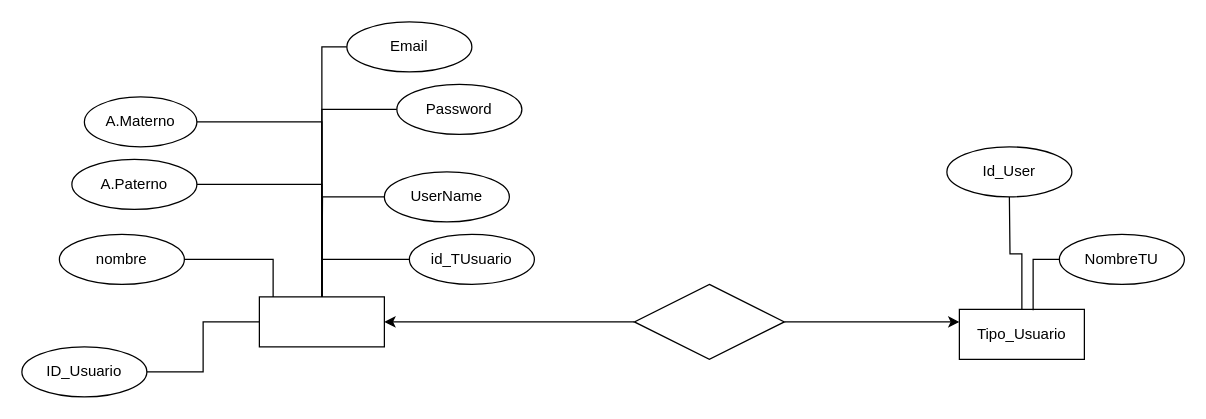
Image size: 1206x419. Some labels were removed from this diagram. Here are the shapes that lost their labels. From the top down, the centre of each, then its label:
At pixel 321 321: "Usuario".
At pixel 708 321: "Relationship".
